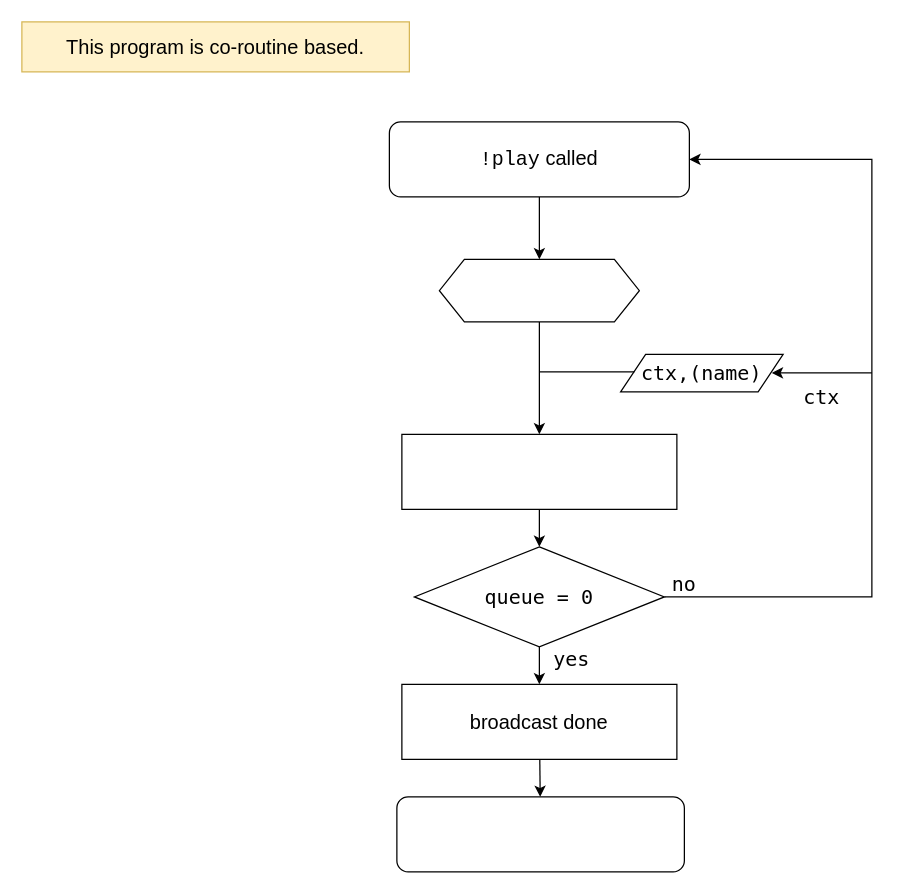
The diagram is 904 pixels wide and 894 high, and some of its shapes have lost their labels. The shapes that lost their labels are listed below. From the top down, each one's centre as x and y in pixels, then its label:
(x=538, y=290): global queue
(x=539, y=471): execute play() func
(x=540, y=834): return
